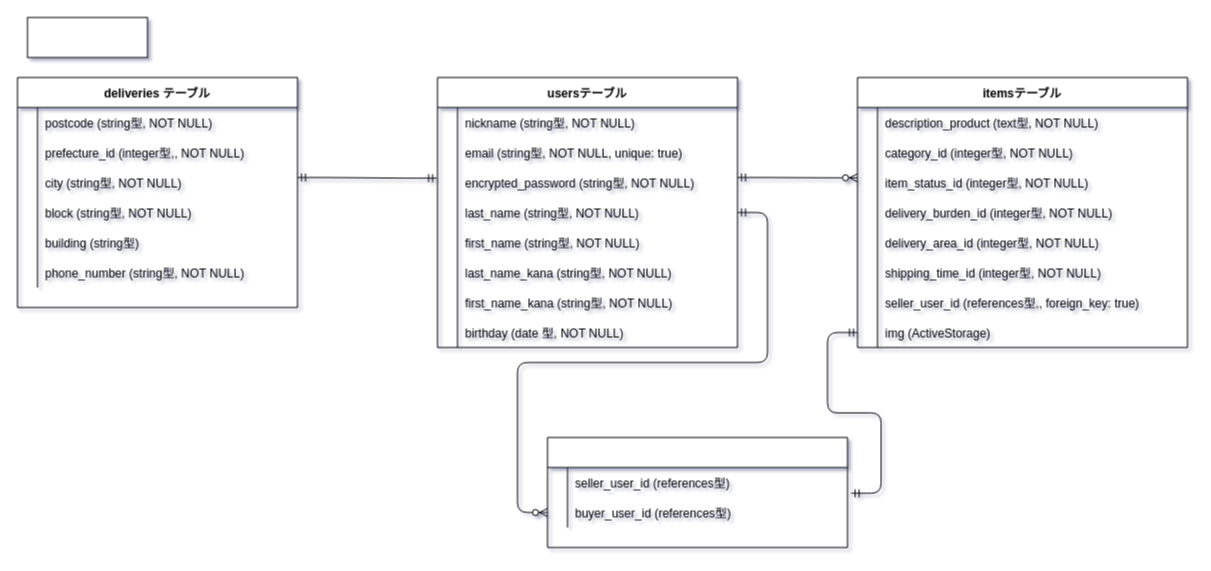
This 1211x571 diagram has some shape labels left out. Here are the shapes that lost their labels. From the top down, the box of each, then its label:
(26, 16, 148, 58): furima_ER図
(546, 436, 848, 548): ordersテーブル
